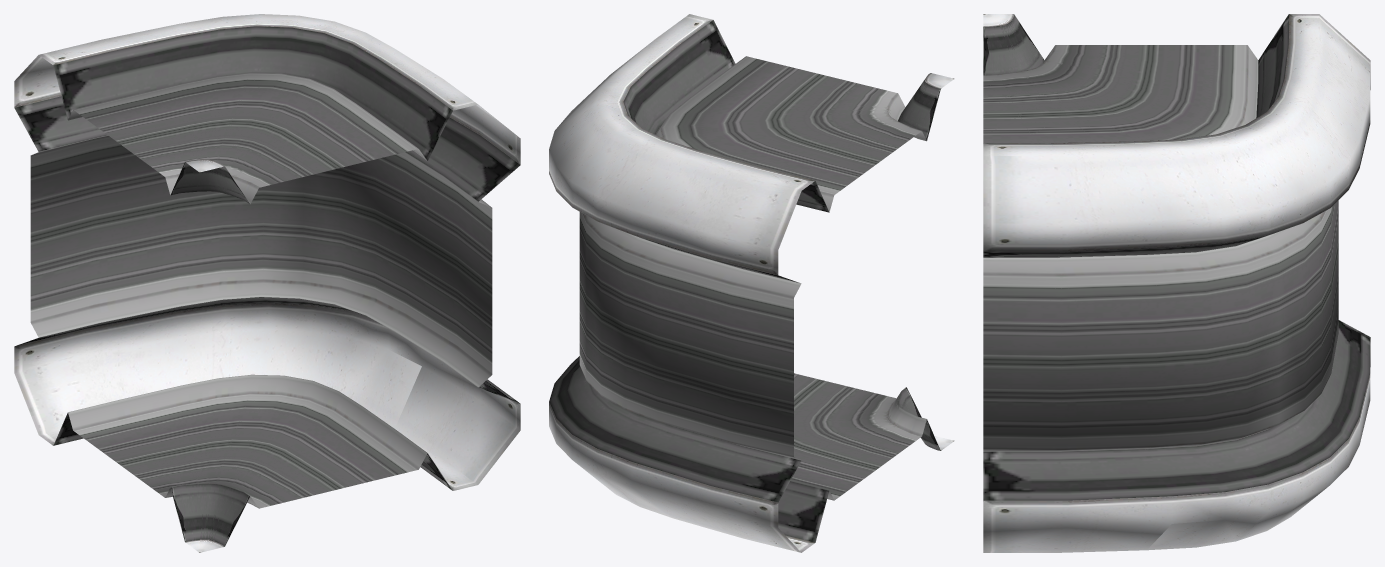
File: CeilingBrace_Corner_xsB.FBX
3 renders of one model, left to right at view 1: azimuth 30°, elevation 25°; view 2: azimuth 150°, elevation 25°; view 3: azimuth 270°, elevation 25°, orthographic. The views are drawn at different scales.
Visible parts, largest first — view 1: CeilingBrace_Corner_xsB; view 2: CeilingBrace_Corner_xsB; view 3: CeilingBrace_Corner_xsB.
Boxes of the visible parts, <box> form: CeilingBrace_Corner_xsB: <box>14,14,520,552</box>; CeilingBrace_Corner_xsB: <box>549,14,954,552</box>; CeilingBrace_Corner_xsB: <box>983,14,1370,552</box>.
Size of the model in its own units: 1.15 by 1.3 by 1.15.
